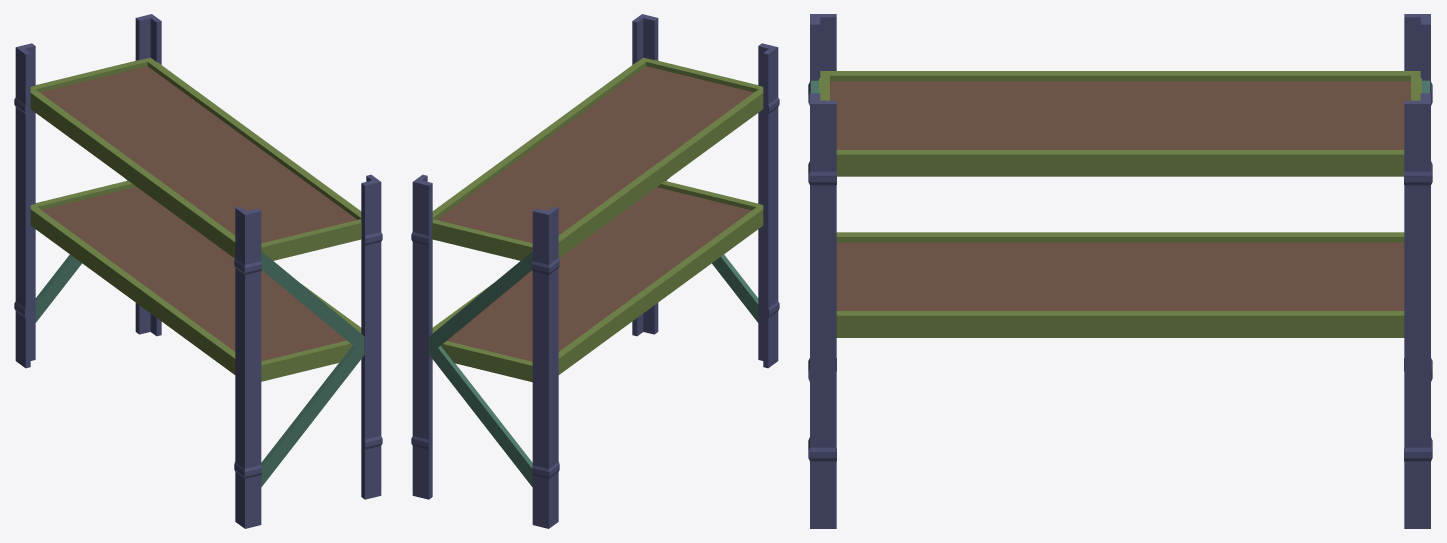
File: Racking_1.fbx
3 views of the same model, side by side, from view 1: azimuth 30°, elevation 25°; view 2: azimuth 150°, elevation 25°; view 3: azimuth 270°, elevation 25° (orthographic). The views are drawn at different scales.
Visible parts, largest first — view 1: pCube11; view 2: pCube11; view 3: pCube11.
Boxes of the visible parts, x1=… form: pCube11: x1=14, y1=14, x2=382, y2=528; pCube11: x1=411, y1=14, x2=779, y2=528; pCube11: x1=808, y1=14, x2=1432, y2=528.
Bounding box in the file's own units: 5.56 × 12.09 × 16.09.
